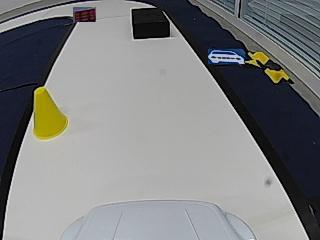block: (132, 8, 170, 38)
cone: (31, 88, 68, 140)
